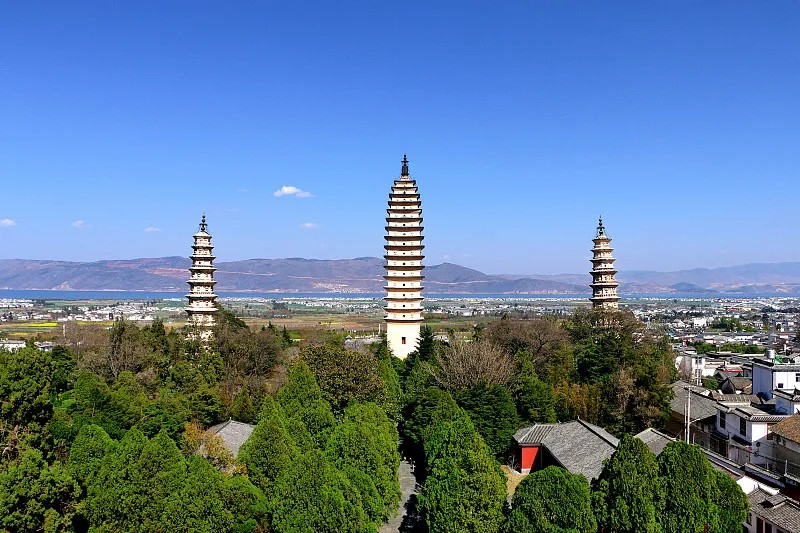ThreePagoda: (383, 154, 424, 360)
